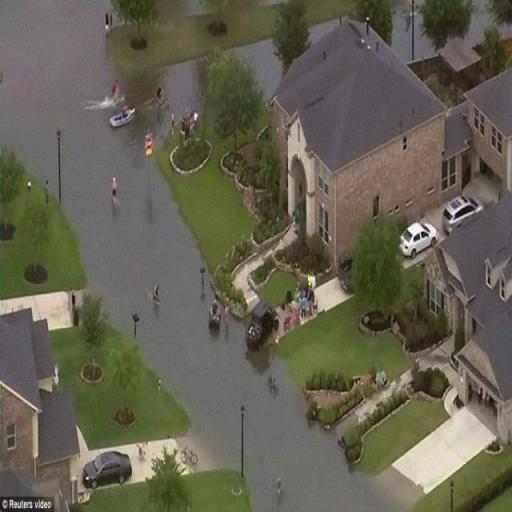flood: (0, 0, 421, 512), (225, 38, 282, 100), (226, 38, 282, 100), (165, 58, 202, 118), (414, 0, 437, 59), (392, 0, 414, 61), (310, 19, 339, 44)
house: (274, 4, 440, 258), (444, 184, 512, 416), (2, 299, 70, 493), (460, 46, 512, 204)
